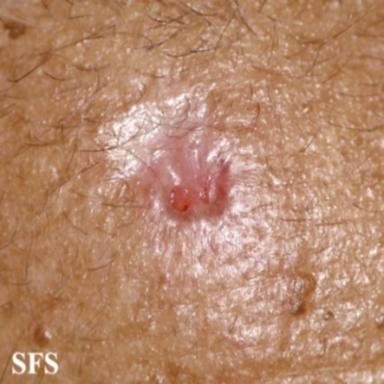basal-cell-carcinoma: (144, 130, 230, 227)
